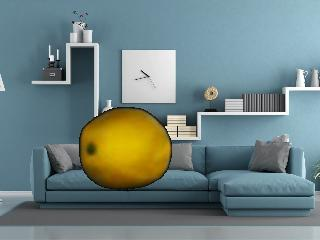lemon: (80, 107, 172, 190)
